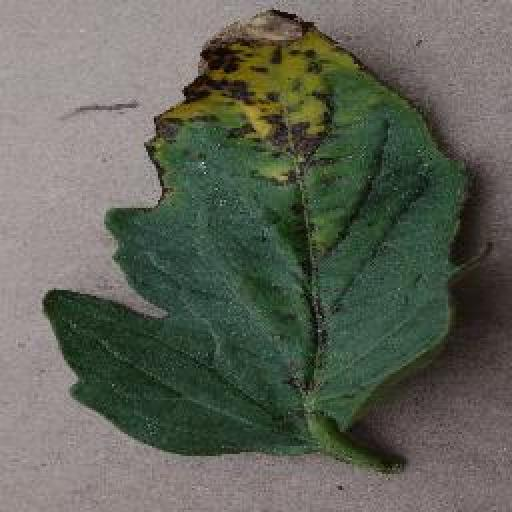Bacterial Spot: (36, 4, 498, 484)
